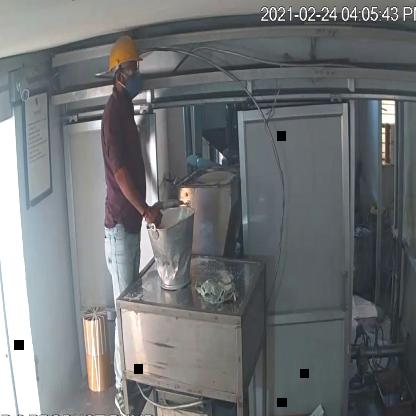helmet: (106, 34, 146, 76)
